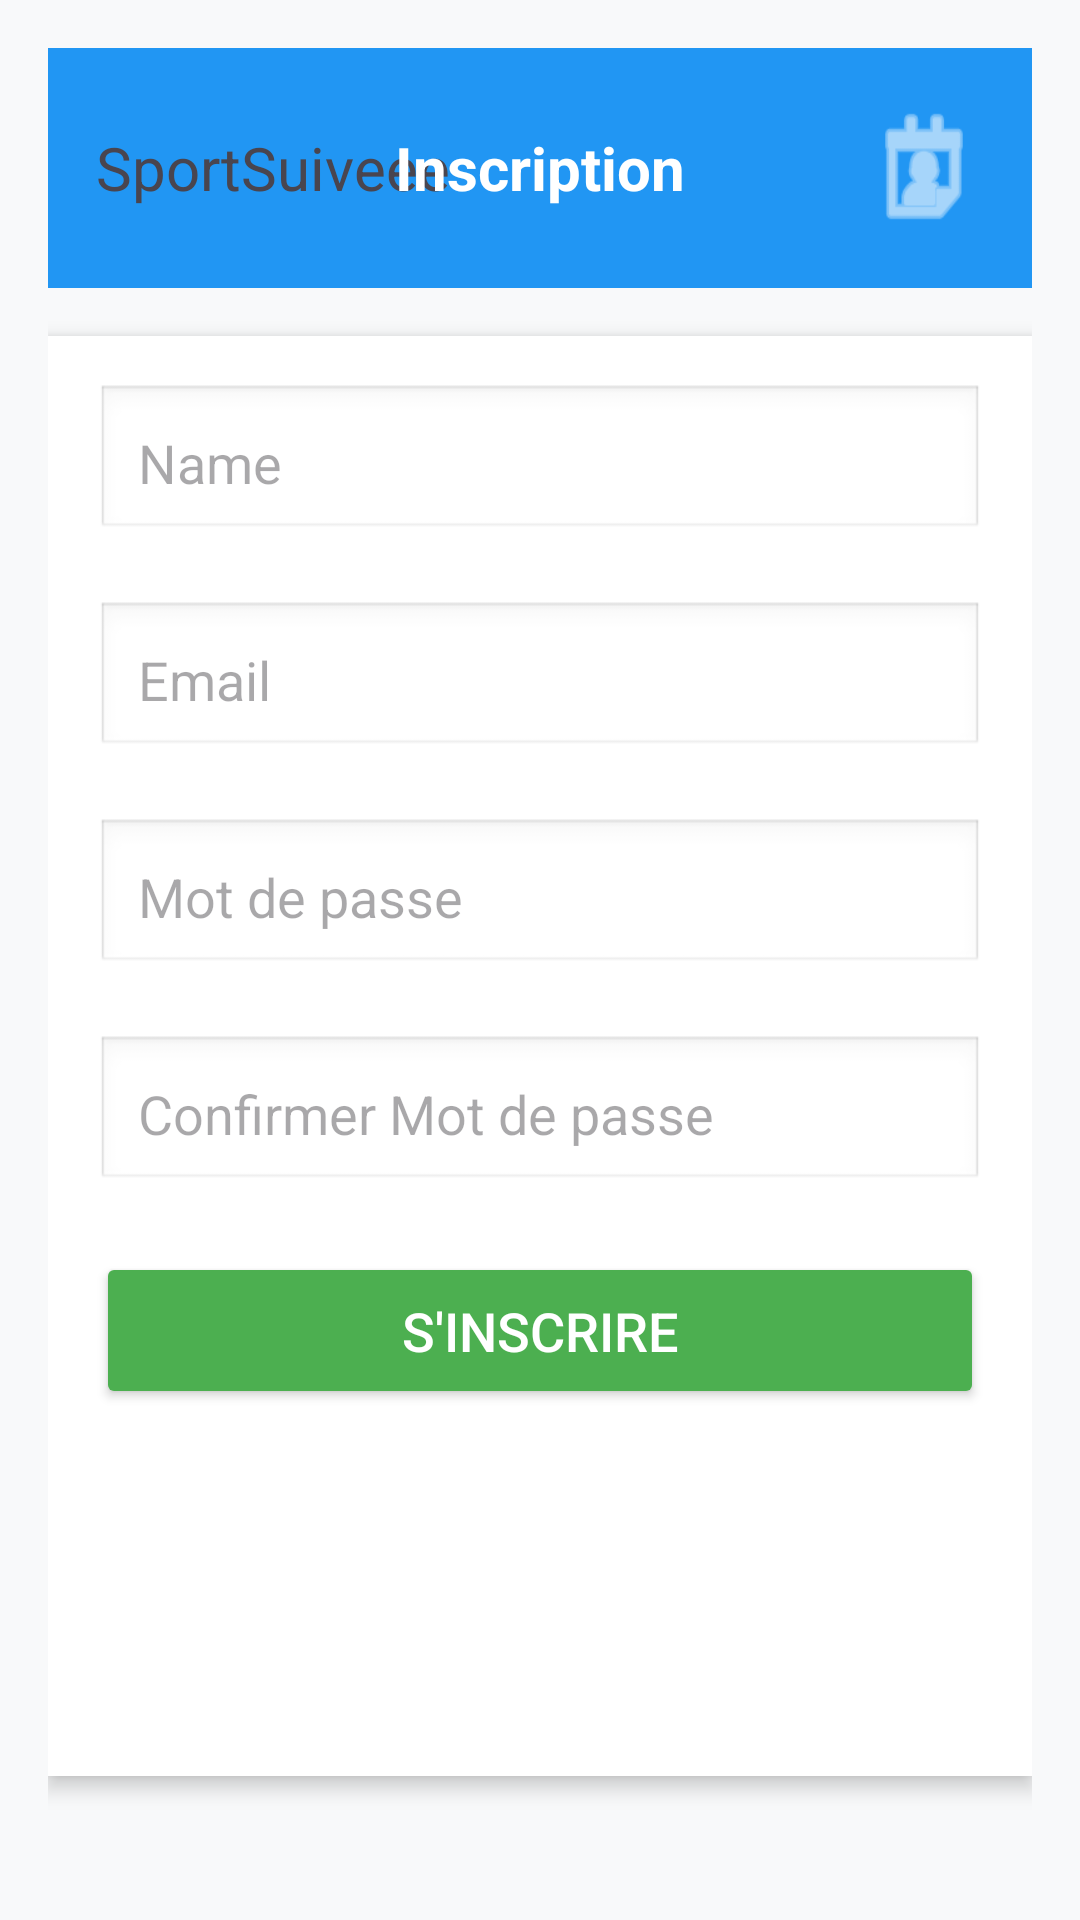

Screen size 1080*1920. Icon name, then its box in pixels as bbox=(x1, y1, x2, y2):
calendar: bbox=(885, 114, 963, 219)
